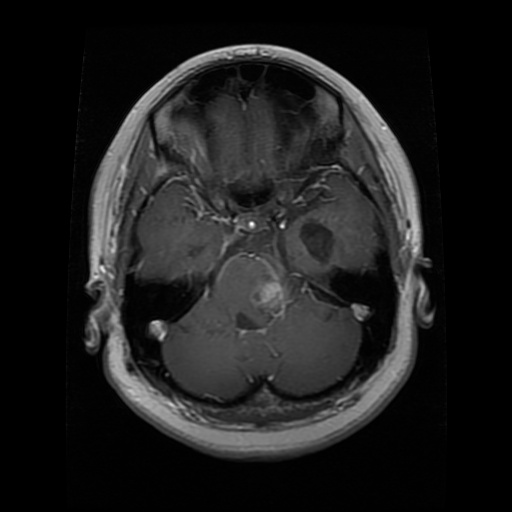glioma: (247, 266, 294, 318)
